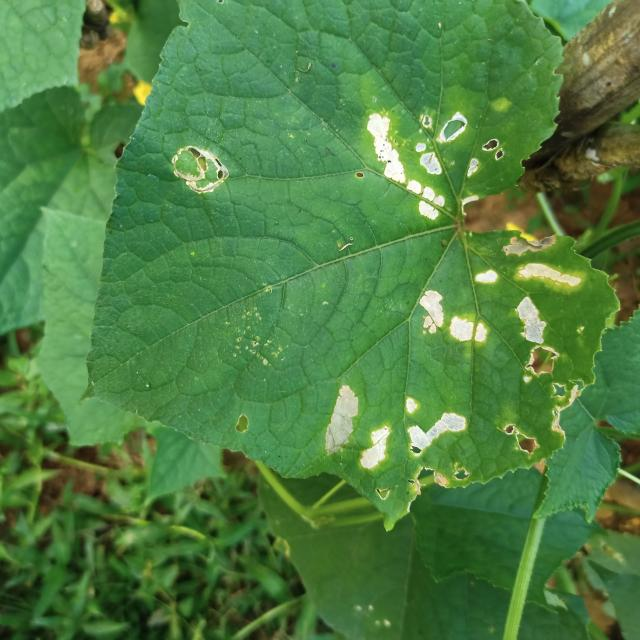disease_cucumber: (362, 99, 511, 228), (501, 235, 600, 417), (414, 265, 500, 351), (321, 382, 391, 475), (399, 396, 474, 475)
